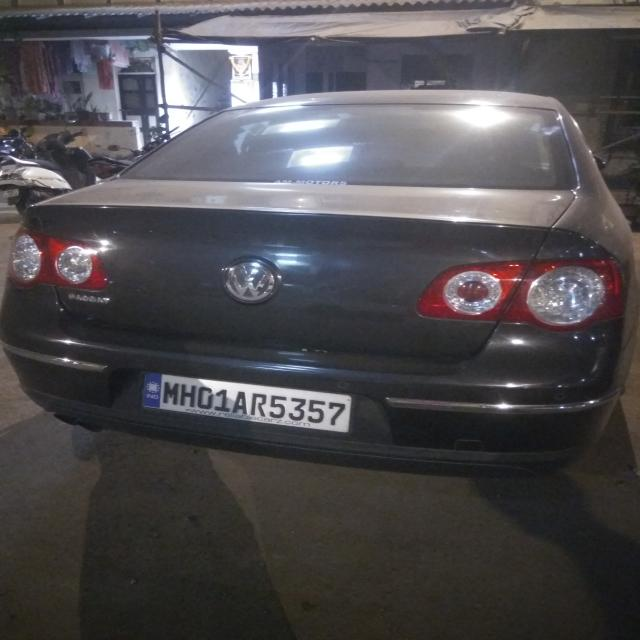Number-Plate: (144, 371, 352, 424)
